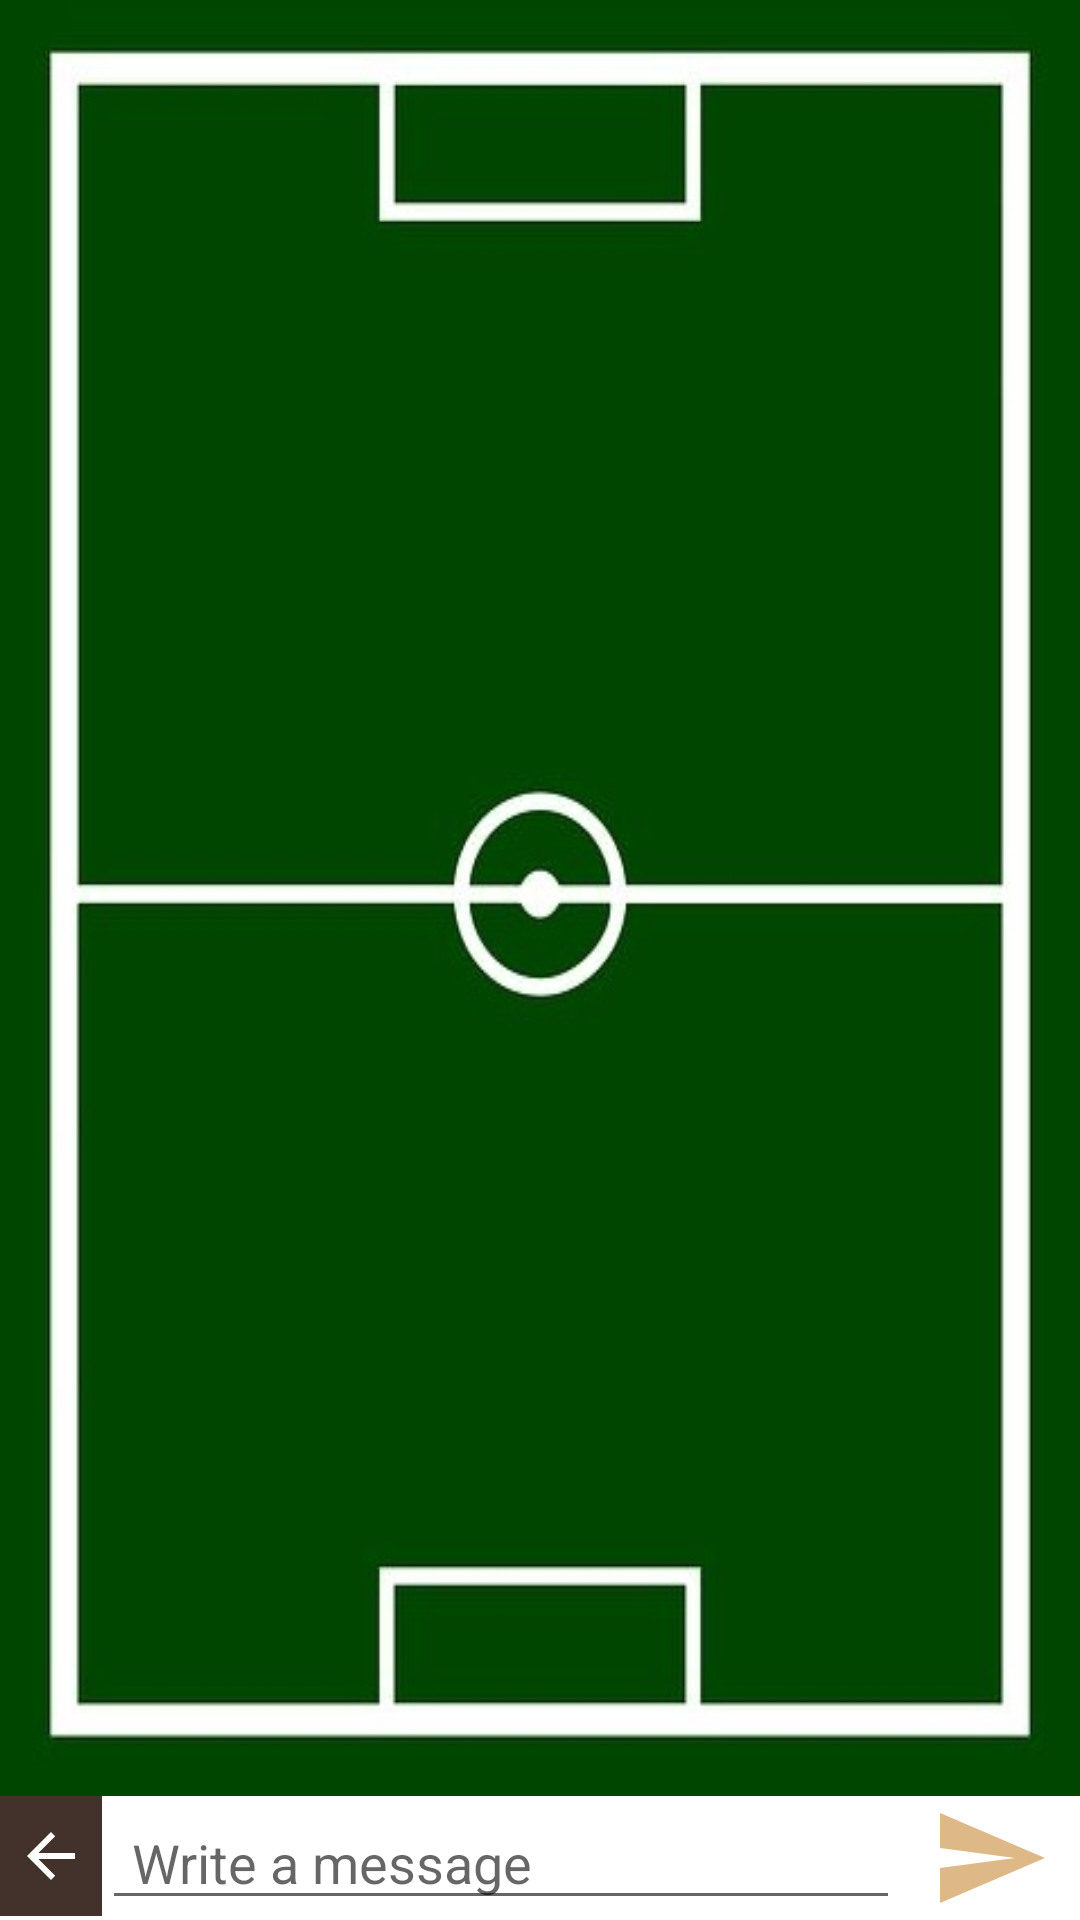

Where icons sit on this 1080px×1920px app screen, as {"x1": x1, "y1": y1, "x2": x2, "y2": y2}:
send: {"x1": 940, "y1": 1813, "x2": 1045, "y2": 1903}
